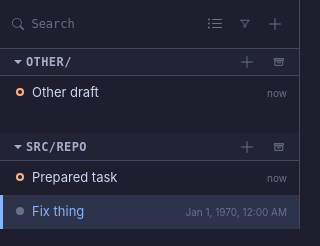
Test case: SessionSidebar › keeps matching worktree drafts in their project during projects search
Type "Prepared" into the search field named "Search sessions". click: (113, 24)
box: [31,15,195,33]
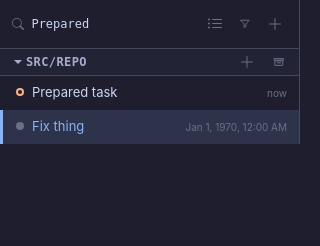
Expected: the text "Prepared task" is shown, [32,84,117,100]
Expected: the button "Other draft" is gone
Replace the text in the search field named "Search sessions" with "/src/repo". click: (113, 24)
box: [31,15,195,33]
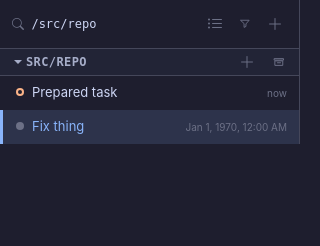
Expected: the text "Prepared task" is shown, [32,84,117,100]
Replace the text in the search field named "Search sessions" with "missing". click: (113, 24)
box: [31,15,195,33]
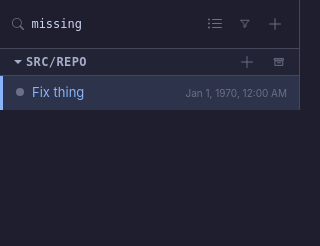
Expected: the button "Prepared task" is gone
